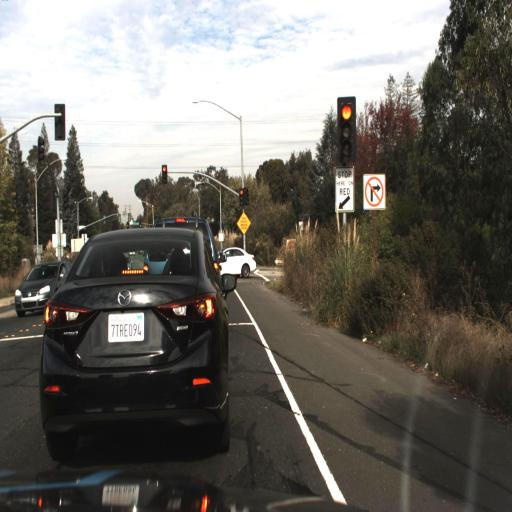car: (35, 224, 235, 463), (8, 256, 70, 317)
trafficLight-Red: (336, 96, 359, 166), (159, 160, 169, 186), (237, 186, 245, 207)
